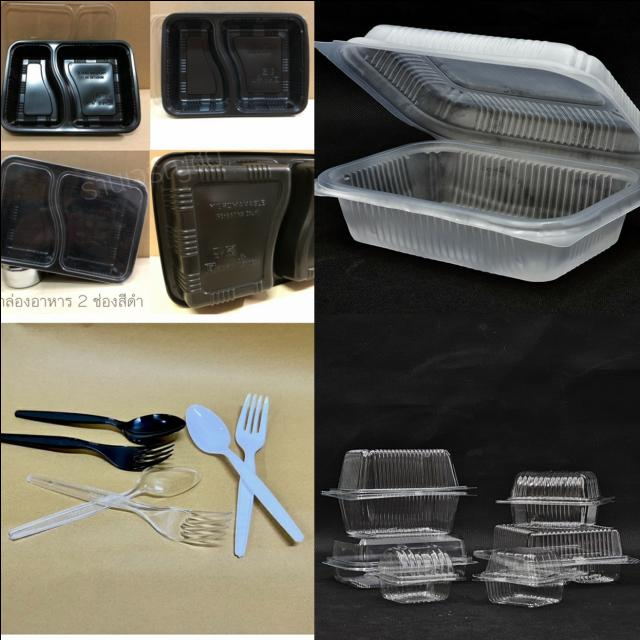plastik: (315, 24, 640, 280), (152, 152, 313, 307), (185, 393, 303, 556), (0, 155, 146, 281), (466, 516, 638, 622), (8, 465, 230, 544), (185, 403, 303, 541), (161, 12, 308, 116), (0, 40, 139, 132), (321, 448, 466, 535), (0, 432, 173, 469), (496, 470, 613, 523), (14, 408, 185, 444), (375, 544, 456, 602)
